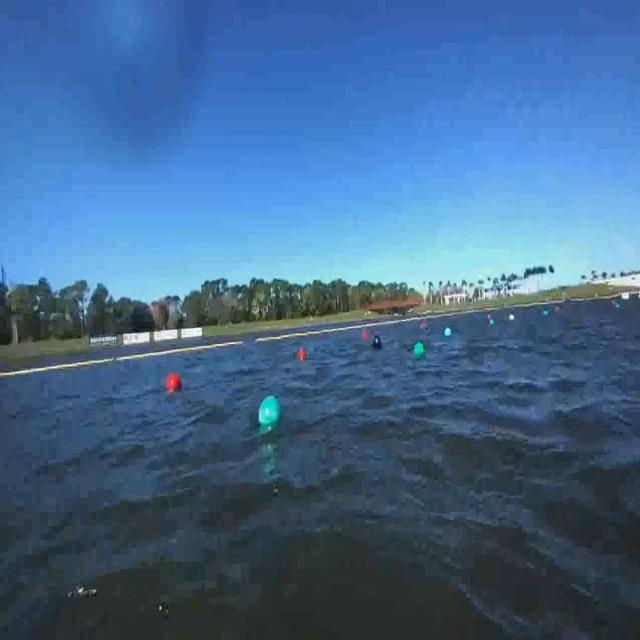black-buoy: (373, 336, 383, 352)
green-buoy: (260, 397, 283, 431), (415, 341, 426, 360)
red-buoy: (168, 375, 184, 395), (297, 349, 306, 362)
